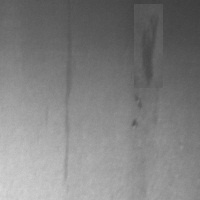inclusion: (54, 2, 78, 187), (134, 4, 163, 88), (143, 2, 166, 68)
